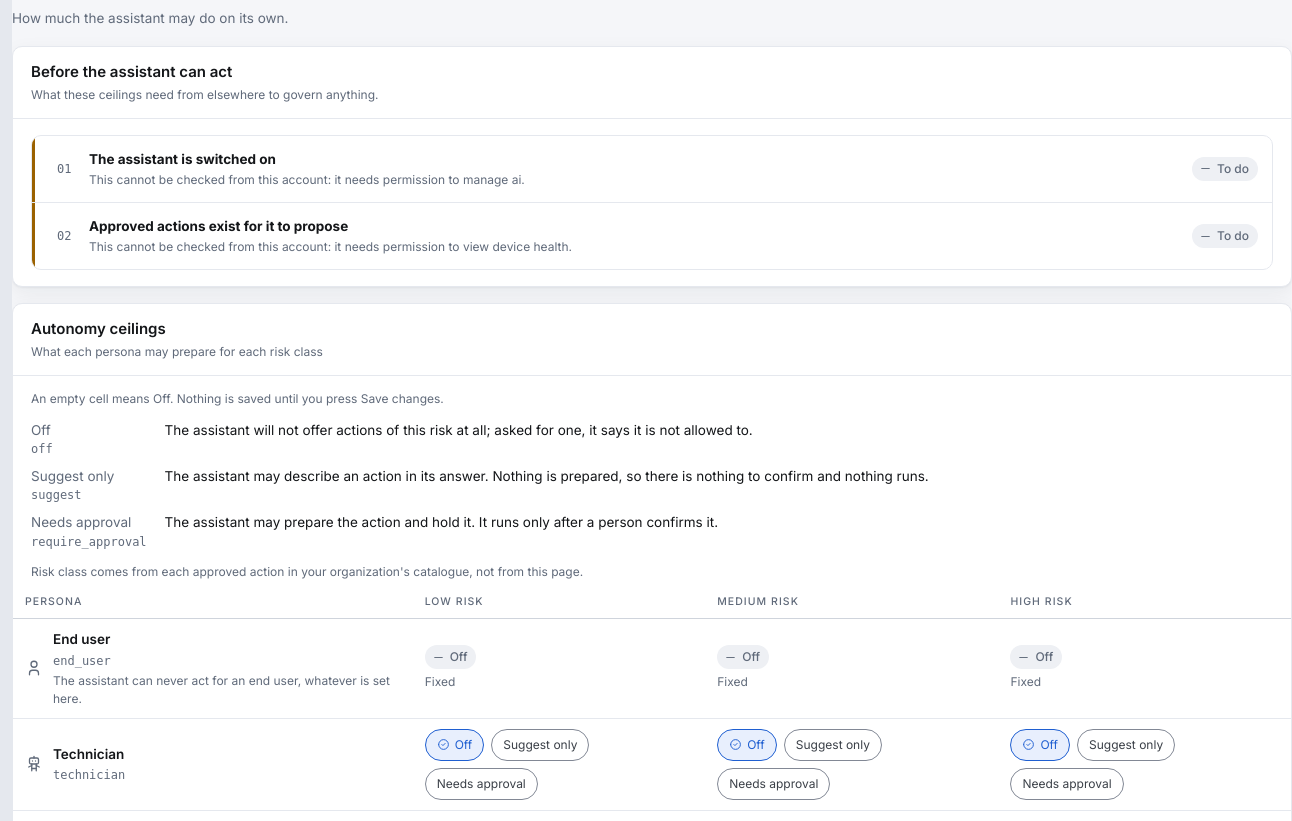
AutonomyDialPage › writes nothing when a cell is changed — the edit is a draft until Save
Click the 3rd button "Needs approval".
click(1067, 784)  # box [1010, 768, 1124, 800]
(page scrolled)
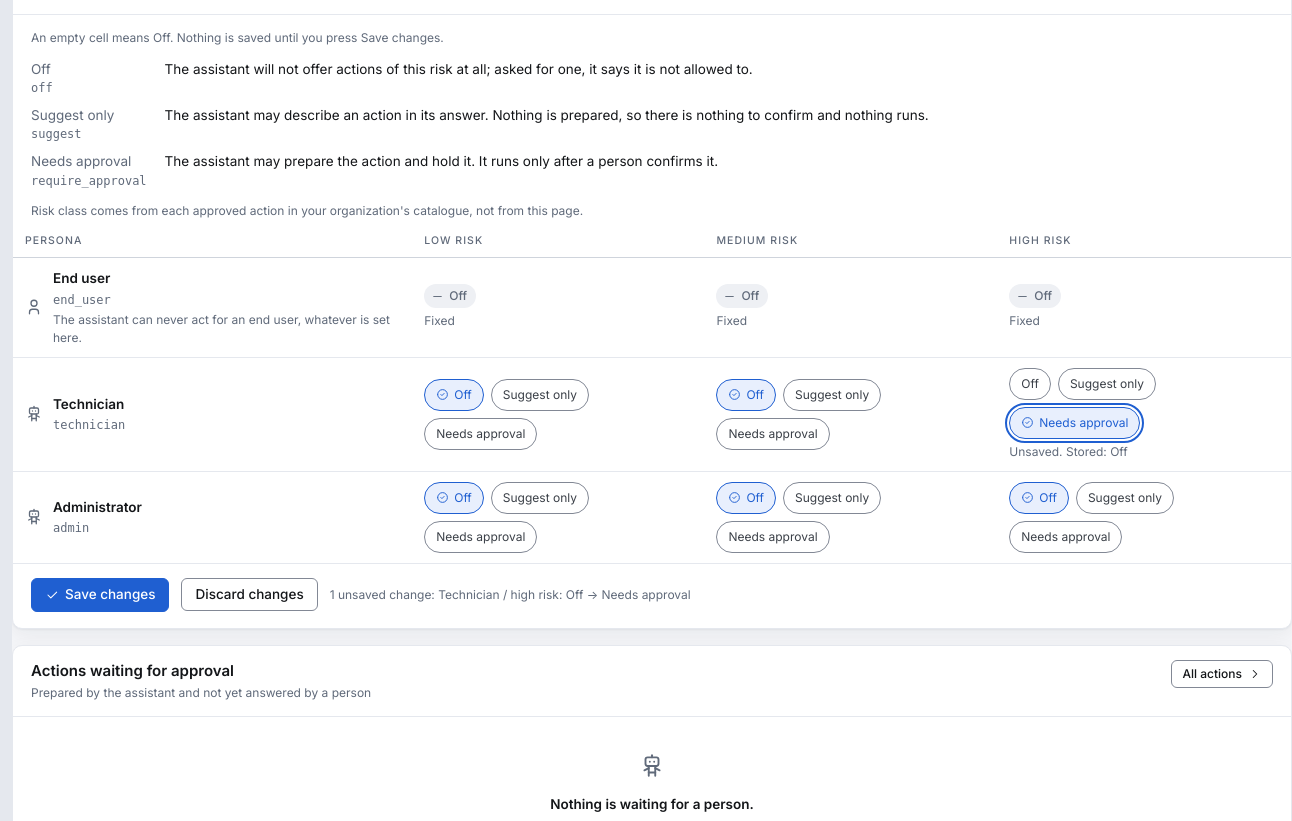
Check: the text "1 unsaved change: Technician / high risk: Off → Needs approval" is shown, box [330, 586, 691, 604]
